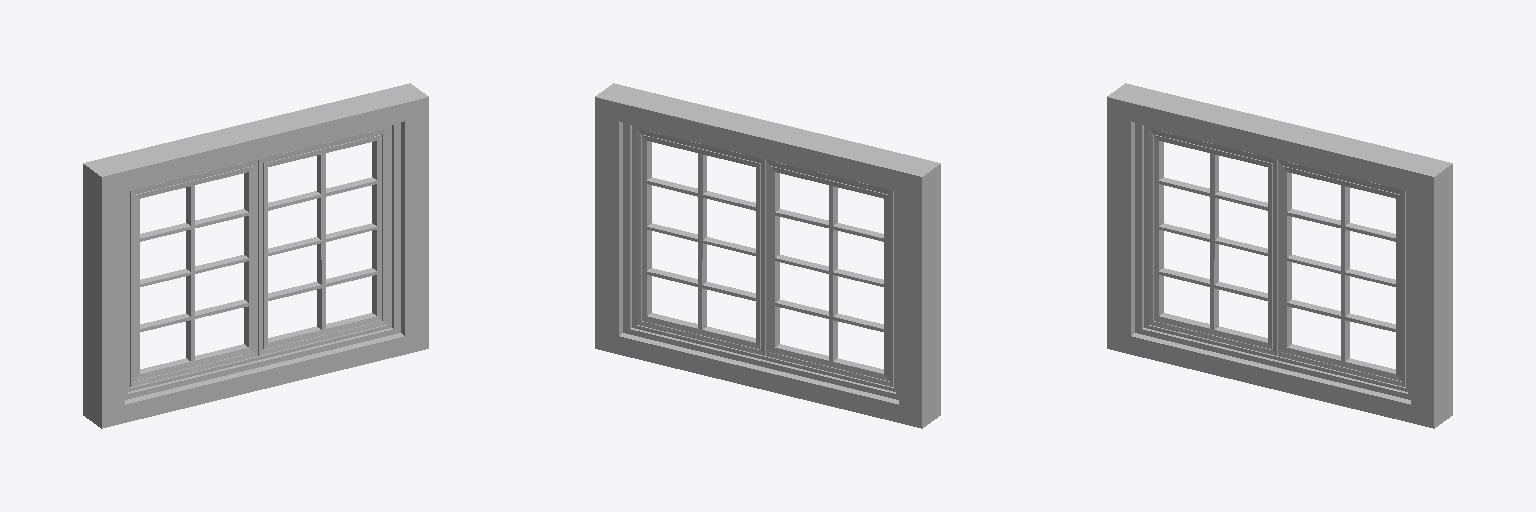
Rendered from window 1.obj.
3 renders of one model, left to right at view 1: azimuth 30°, elevation 25°; view 2: azimuth 150°, elevation 25°; view 3: azimuth 330°, elevation 25°, orthographic.
Size of the model in its own units: 29.43 by 21.6 by 2.93.